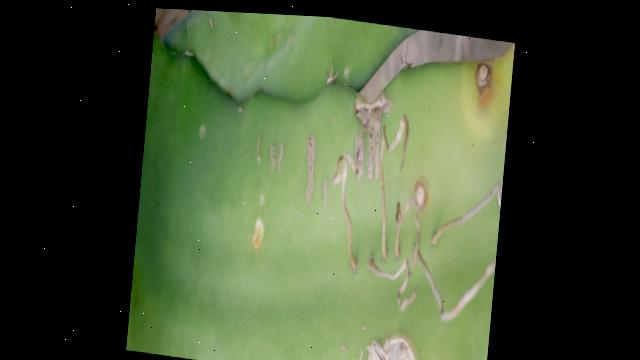stemcanker: (465, 54, 496, 108), (236, 211, 270, 253), (408, 175, 433, 218)
